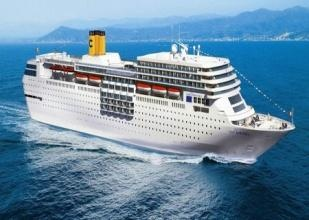youlun: (21, 28, 298, 167)
